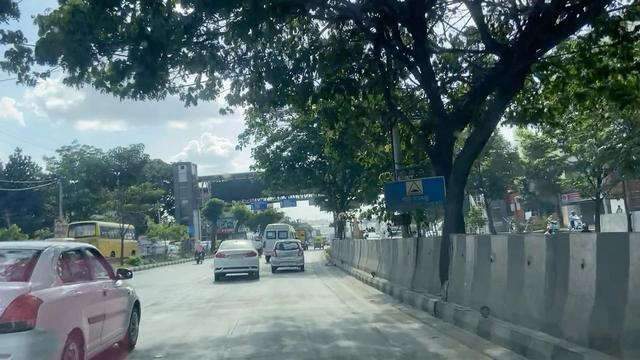LMV: (218, 239, 253, 276), (274, 238, 306, 273)
